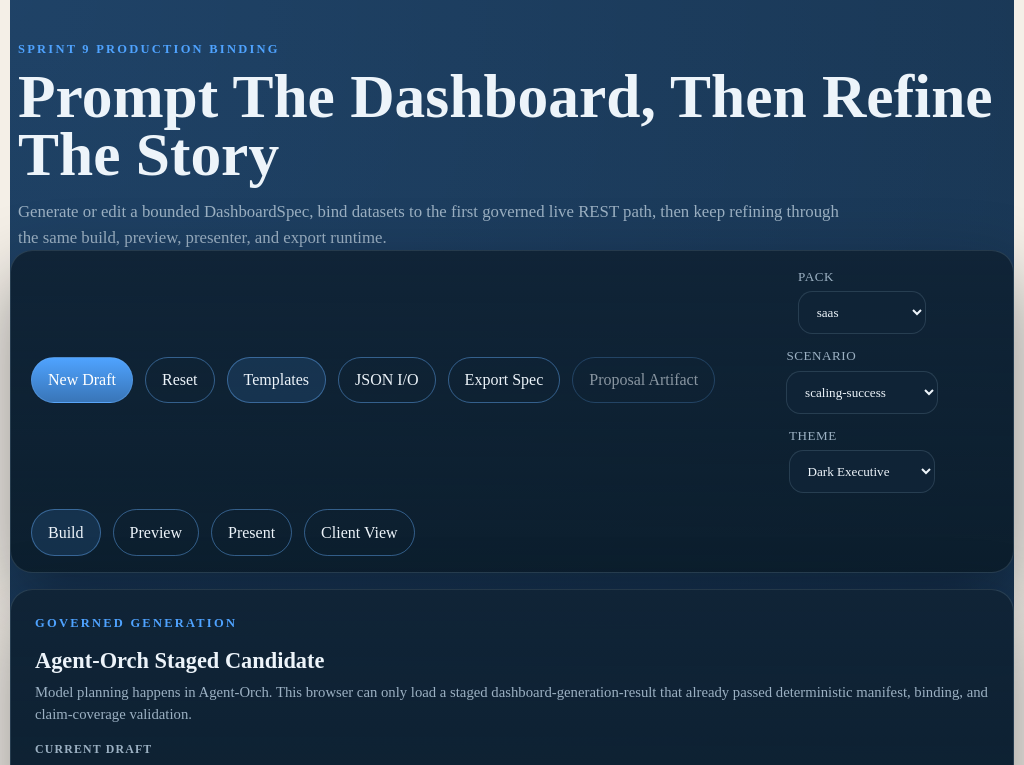
Test: BuilderShell › switches to full-screen client mode from build mode without showing builder shell
The width and height of the screenshot is (1024, 765).
Expected: the heading "Prompt The Dashboard, Then Refine The Story" is shown, [18, 67, 1006, 183]
Expected: the button "New Draft" is shown, [31, 357, 133, 403]
Click the button "Client View": {"x": 359, "y": 533} [304, 509, 415, 556]
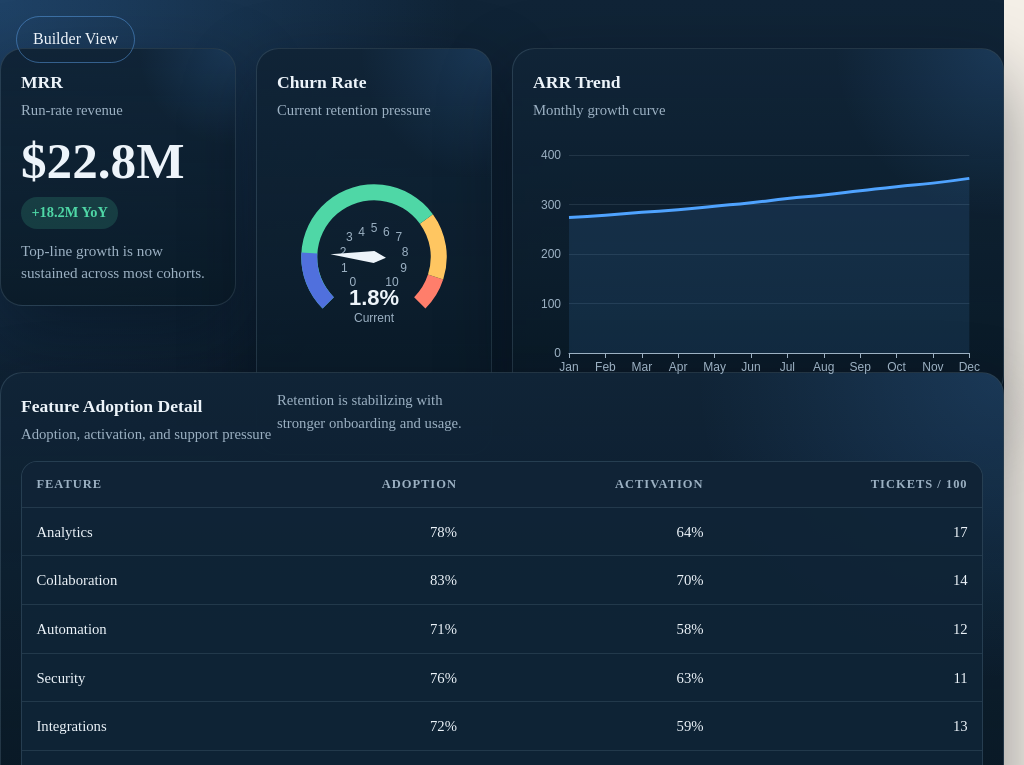
Expected: the button "Builder View" is shown, [16, 16, 135, 63]
Expected: the heading "Prompt The Dashboard, Then Refine The Story" is gone
Expected: the button "New Draft" is gone
